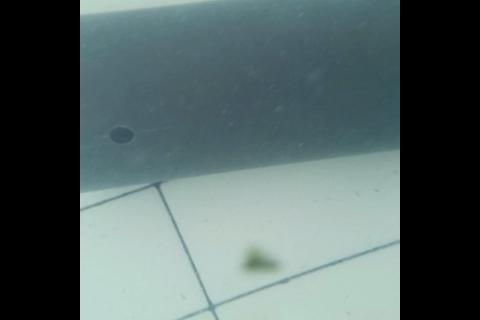kebocoran: (108, 124, 137, 144)
